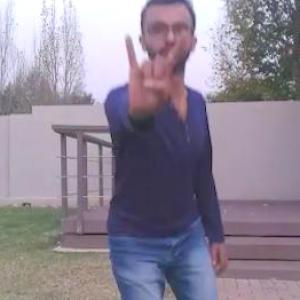takeoff-hand: (111, 23, 197, 116)
